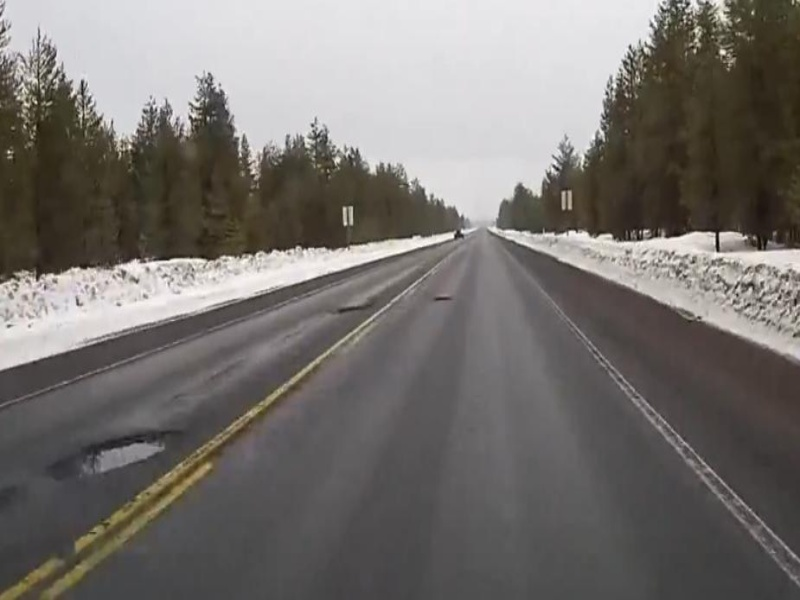pothole: (48, 431, 173, 485)
